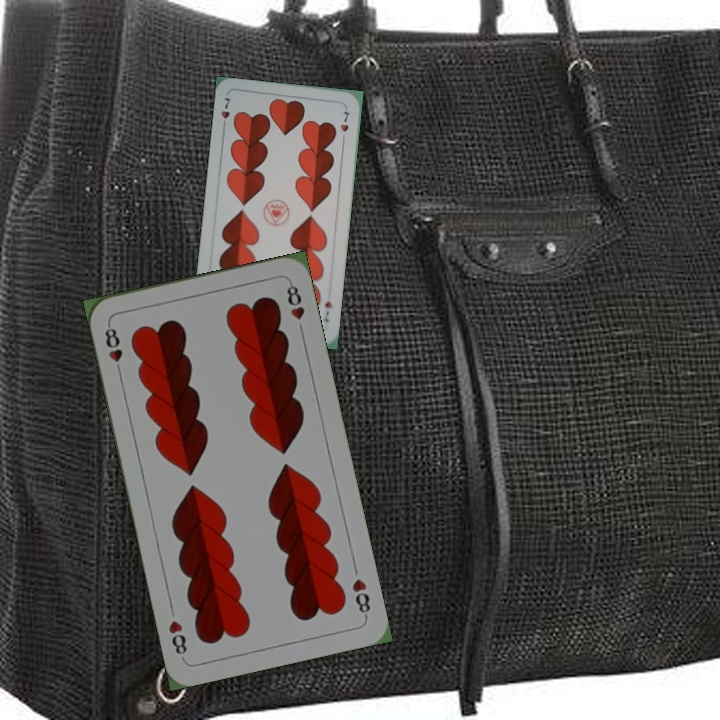H7: (217, 94, 233, 132), (320, 297, 335, 325)
H8: (101, 320, 125, 378), (348, 574, 373, 620)
